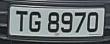0: (86, 11, 101, 34)
7: (74, 12, 87, 34)
8: (46, 11, 61, 35)
9: (61, 11, 74, 35)
G: (29, 11, 44, 35)
T: (15, 9, 29, 34)
